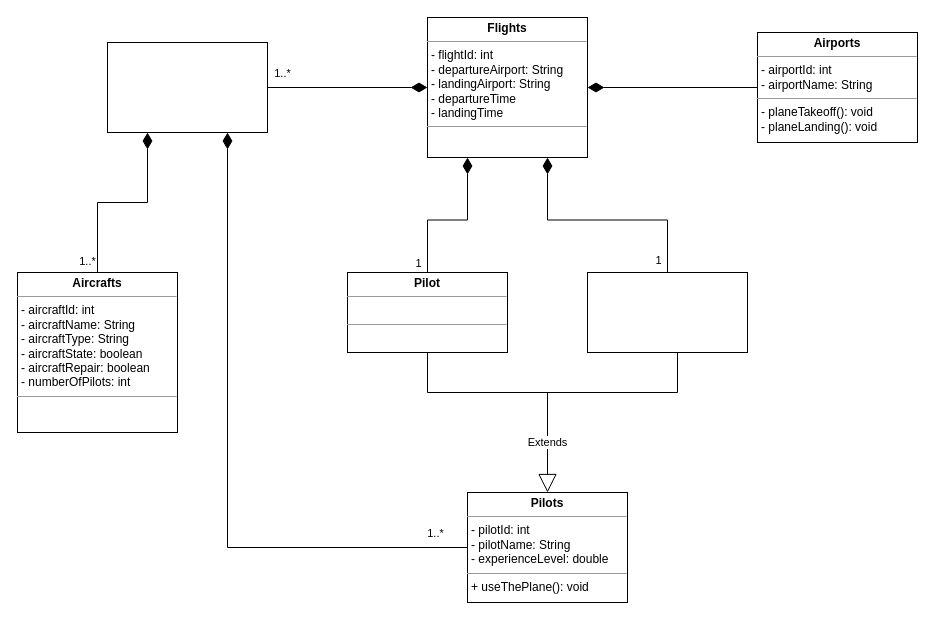
The diagram is 935 pixels wide and 620 high, and some of its shapes have lost their labels. The centre of each missing label's shape, as x and y in pixels:
Airlines - airlineId: int - airlineName: String + flights(): void: pixel 187 87
CoPilot: pixel 667 312
